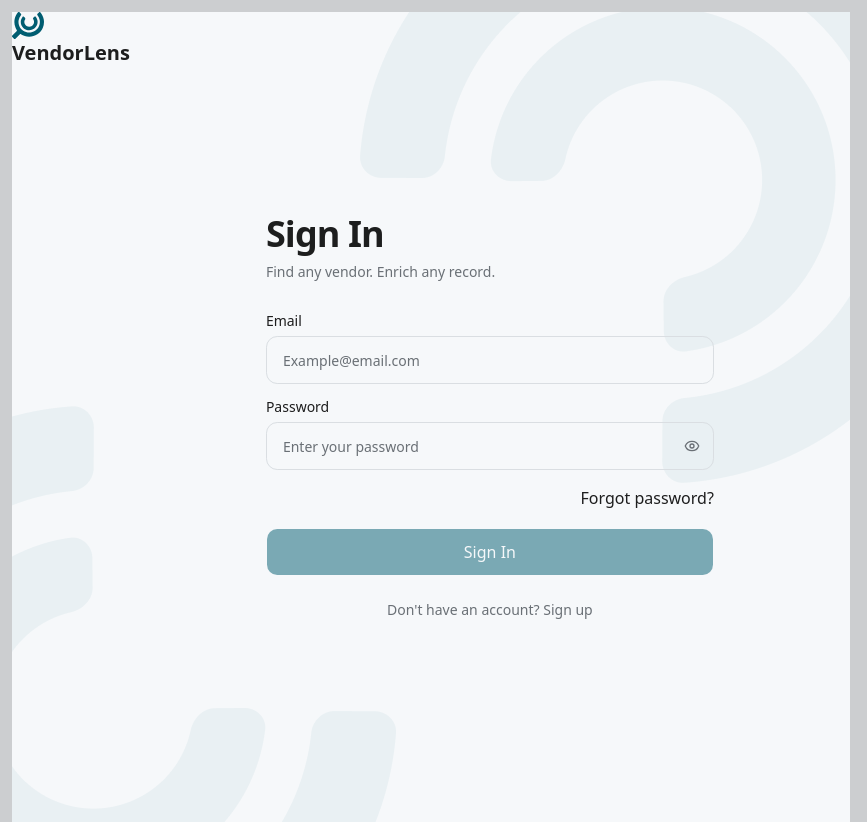
it: LoginForm › shows validation errors when fields are touched and empty
// click into and out of email field without typing
Step 1. Click the field labelled "Email" → (490, 360), box top-left (266, 336), bottom-right (714, 384)
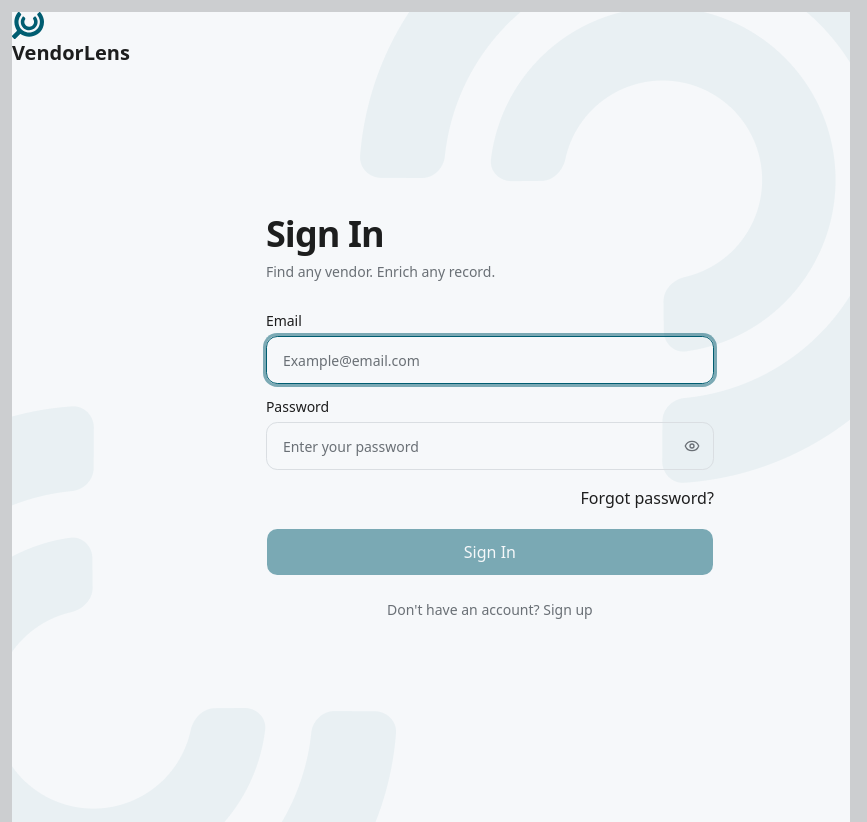
Step 2. Press Tab
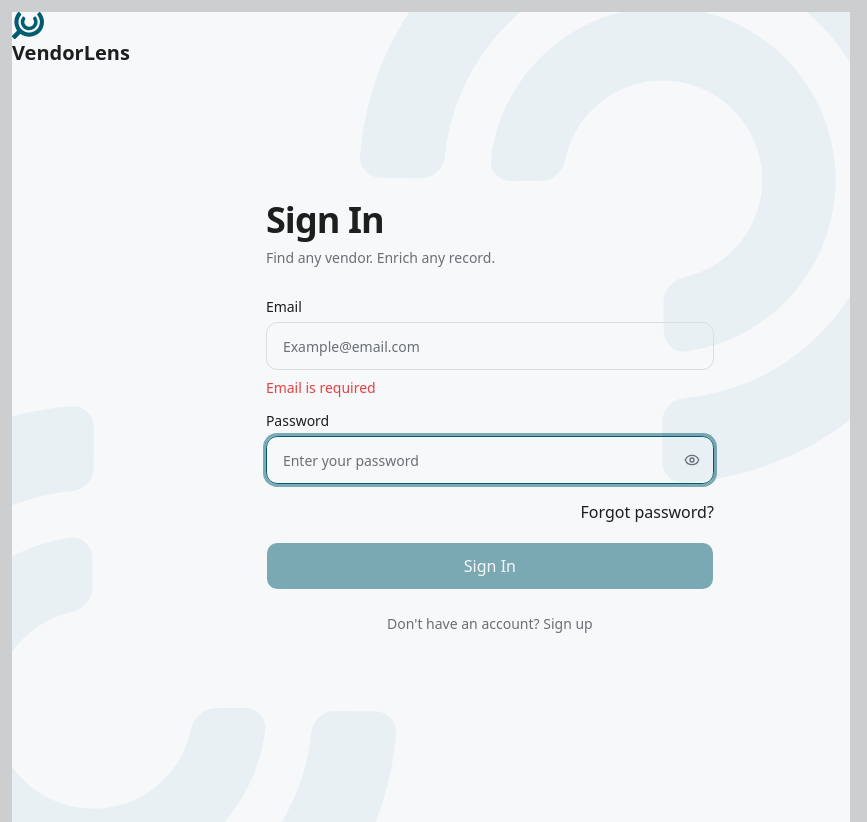
// moves focus away from password, triggers blur on password
Step 3. Press Tab
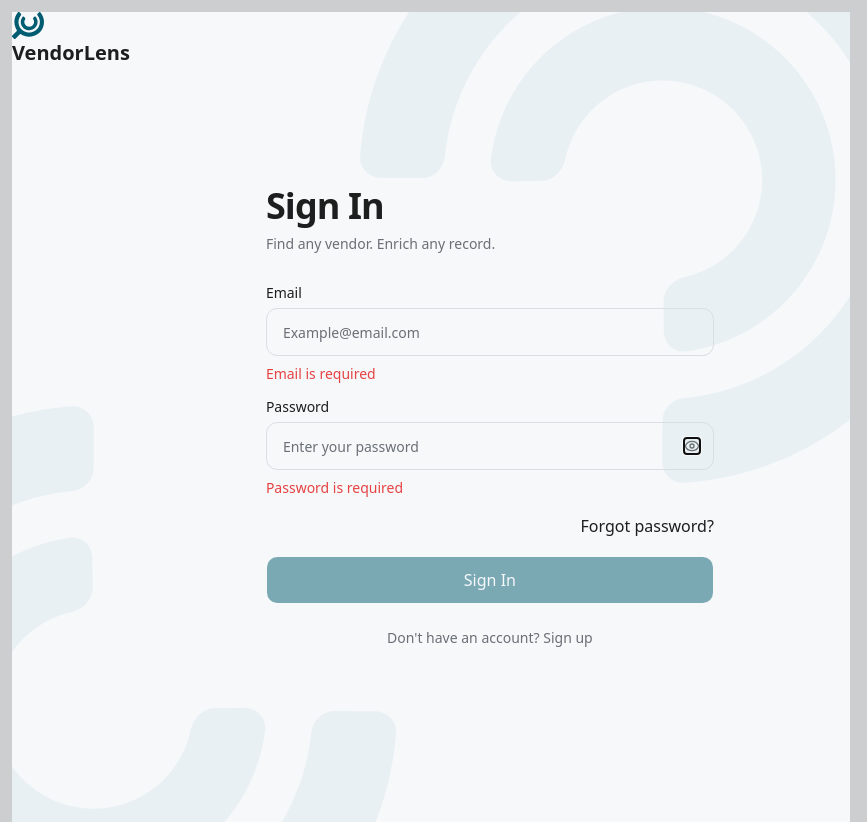
Expected: the text "Email is required" is shown, top-left (266, 364), bottom-right (376, 383)
Expected: the text "Password is required" is shown, top-left (266, 478), bottom-right (403, 497)
